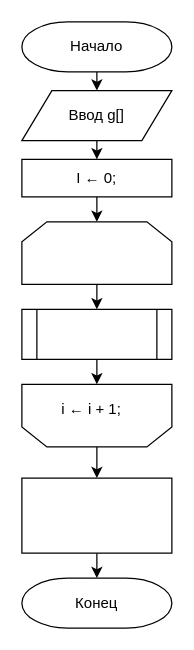
Image size: 194x650. Some labels were removed from this diagram. The centre of each missing label's shape, as x and y in pixels:
"dfs(i)" goes at pixel 96 333.
"i ← 1; i < n;" goes at pixel 96 252.
"развернуть массив top;" goes at pixel 96 515.
